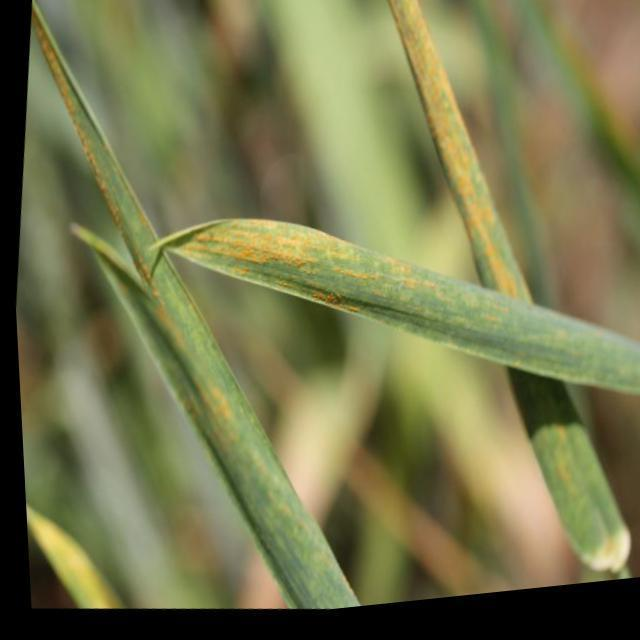Yellow Rust: (28, 0, 353, 614), (153, 222, 639, 413), (382, 0, 528, 317), (502, 380, 620, 590)
